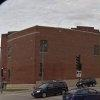Car: (26, 74, 100, 100)
